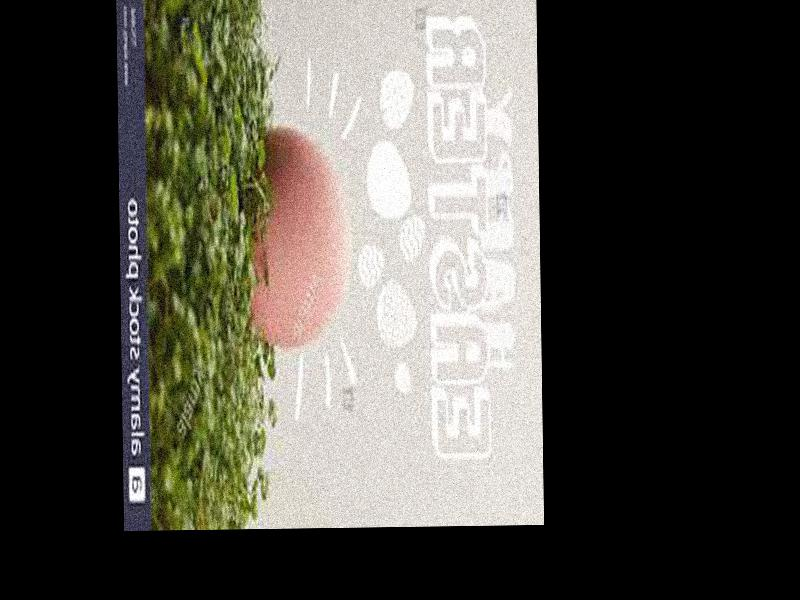Eggs: (247, 122, 350, 345)
